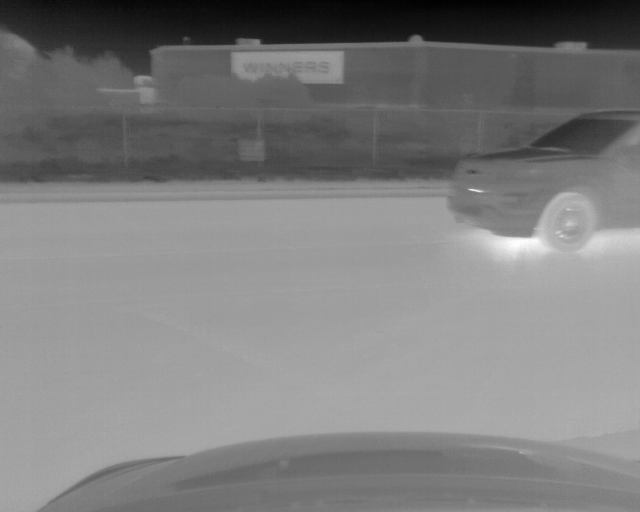car: (448, 109, 640, 254)
